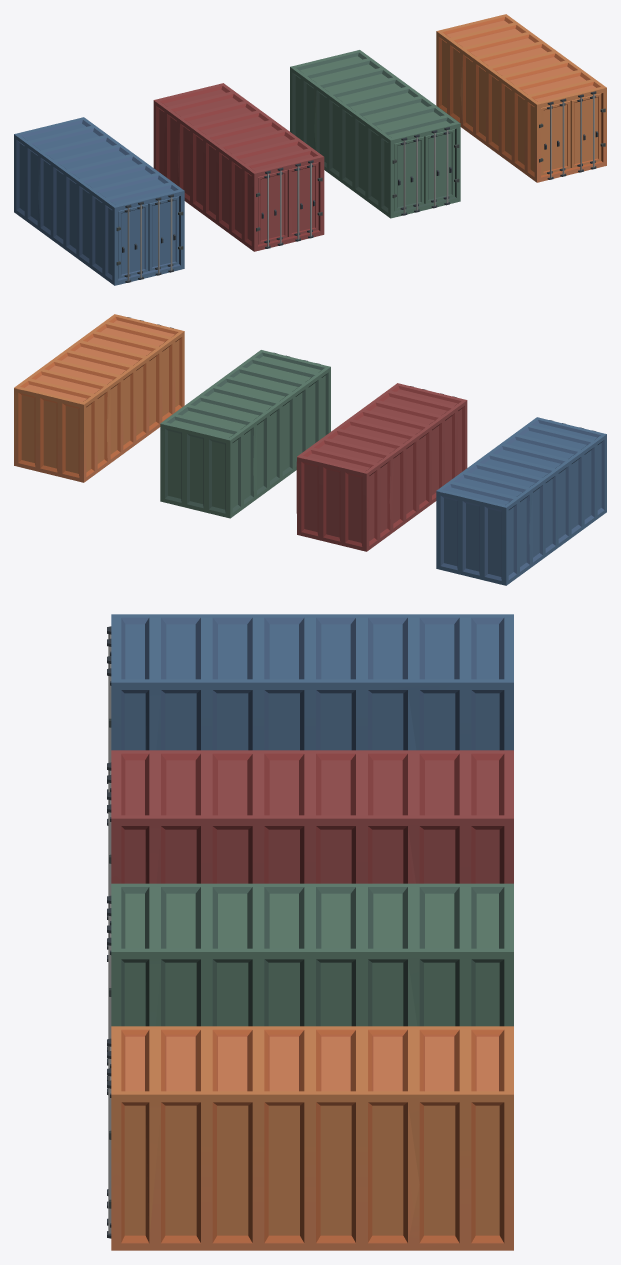
File: Conatiners.fbx
3 renders of one model, top to bottom at view 1: azimuth 30°, elevation 25°; view 2: azimuth 150°, elevation 25°; view 3: azimuth 270°, elevation 25°, orthographic. The views are drawn at different scales.
Visible parts, largest first — view 1: Container1, Container4, Container2, Container3; view 2: Container1, Container4, Container2, Container3; view 3: Container4, Container3, Container1, Container2.
Boxes of the visible parts, <box> form: Container1: <box>14,117,184,285</box>; Container4: <box>436,14,606,182</box>; Container2: <box>153,83,324,251</box>; Container3: <box>290,50,460,218</box>; Container1: <box>436,417,606,585</box>; Container4: <box>14,314,184,482</box>; Container2: <box>296,383,467,551</box>; Container3: <box>160,350,330,518</box>; Container4: <box>107,1026,513,1250</box>; Container3: <box>107,883,513,1094</box>; Container1: <box>107,614,513,825</box>; Container2: <box>107,750,513,961</box>.
Size of the model in its own units: 1710 by 259 by 612.
